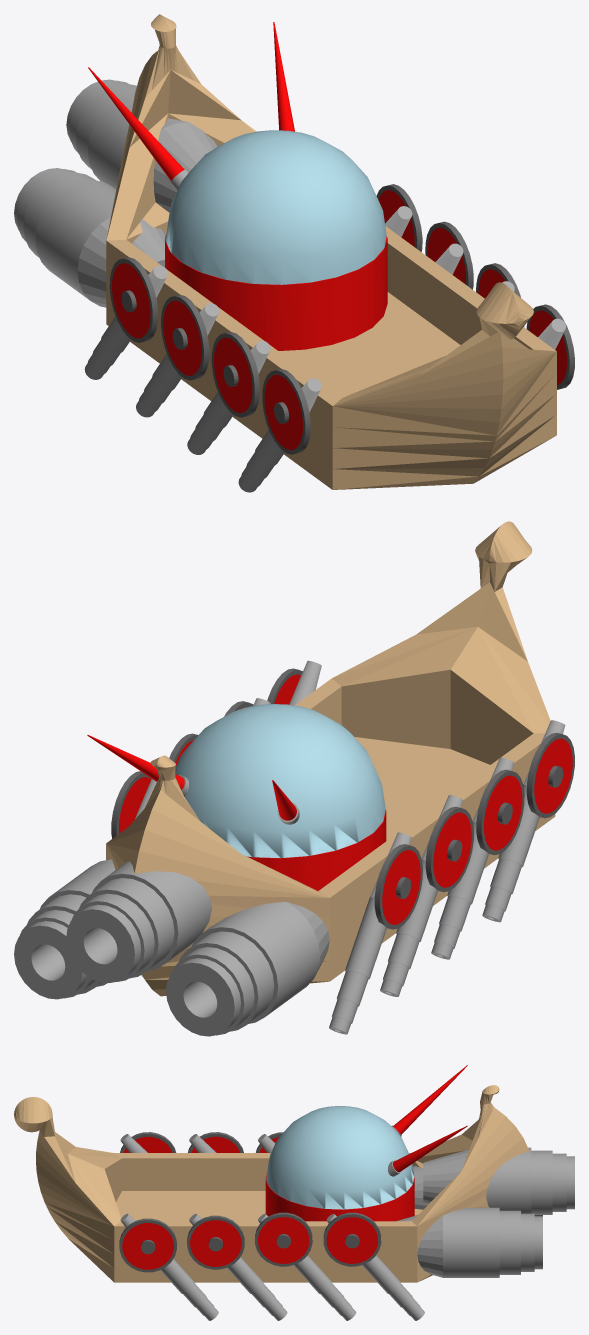
File: ship.fbx
The picture shows the model from 3 angles, top to bottom: view 1: azimuth 30°, elevation 25°; view 2: azimuth 150°, elevation 25°; view 3: azimuth 270°, elevation 25°; orthographic projection. The views are drawn at different scales.
Parts seen in each view (by area): view 1: Group5, Ship1, Group6, Group9, Group8, Group15, Group1, Group20, Group12, Group10, Group13, Group2 (+4 smaller); view 2: Group5, Ship1, Group6, Group9, Group7, Group2, Group8, Group20, Group1, Group15, Group10, Group13 (+4 smaller); view 3: Group5, Ship1, Group7, Group9, Group3, Group17, Group19, Group18, Group14, Group4, Group11, Group16 (+3 smaller).
Part boxes in pixels (x1,y1,x2,y2): Group5: (106, 14, 556, 489); Ship1: (88, 22, 387, 350); Group6: (14, 168, 166, 307); Group9: (66, 79, 217, 212); Group8: (161, 295, 209, 380); Group15: (262, 369, 310, 454); Group1: (109, 257, 157, 342); Group20: (211, 332, 259, 417); Group12: (238, 378, 321, 492); Group10: (136, 303, 219, 417); Group13: (187, 340, 270, 454); Group2: (84, 265, 167, 379); Group5: (106, 521, 555, 996); Ship1: (87, 704, 386, 890); Group6: (166, 901, 329, 1036); Group9: (66, 861, 212, 982); Group7: (14, 859, 115, 999); Group2: (329, 832, 411, 1034); Group8: (425, 806, 473, 892); Group20: (476, 769, 524, 855); Group1: (374, 844, 422, 929); Group15: (526, 732, 574, 818); Group10: (380, 795, 462, 996); Group13: (431, 757, 514, 959); Group5: (14, 1085, 529, 1282); Ship1: (265, 1065, 467, 1221); Group7: (396, 1207, 542, 1277); Group9: (423, 1147, 574, 1214); Group3: (323, 1212, 381, 1266); Group17: (255, 1212, 312, 1266); Group19: (119, 1218, 176, 1272); Group18: (187, 1215, 244, 1269); Group14: (258, 1213, 356, 1320); Group4: (326, 1213, 424, 1320); Group11: (189, 1213, 287, 1320); Group16: (120, 1213, 218, 1320).
Size of the model in its own units: 236 by 236 by 614.
